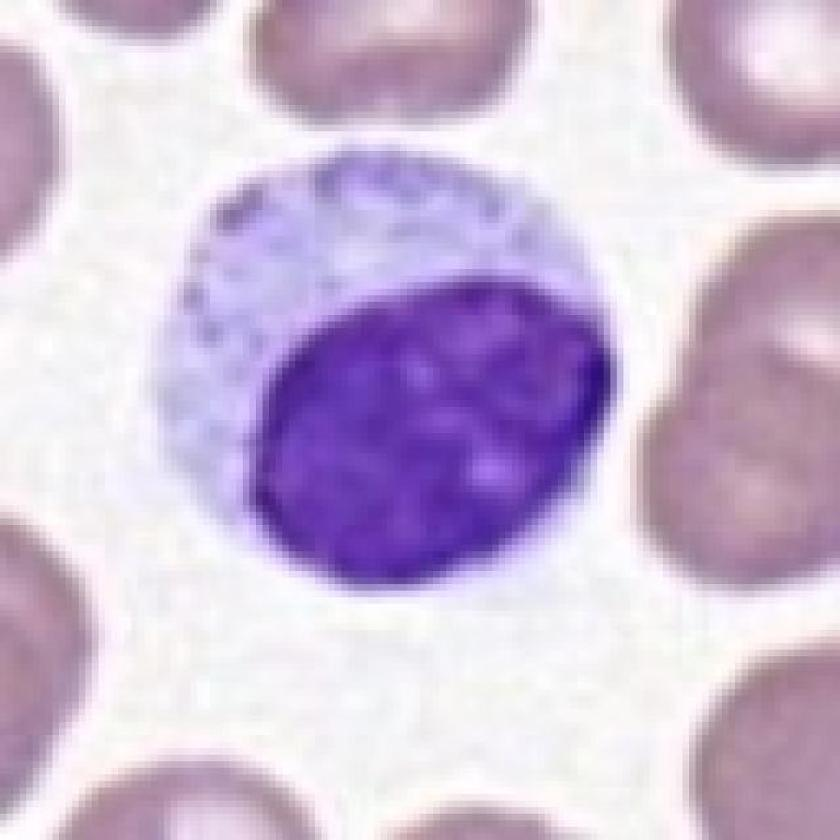lymphocyte: (152, 138, 616, 598)
